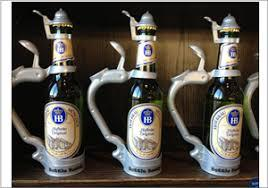Glass bottle: (124, 14, 162, 163), (42, 19, 80, 162), (209, 25, 244, 162)
